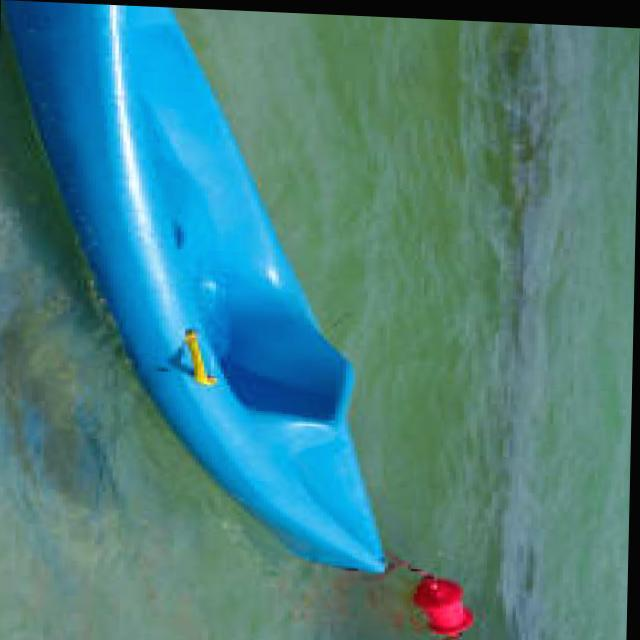kayak: (5, 0, 387, 568)
